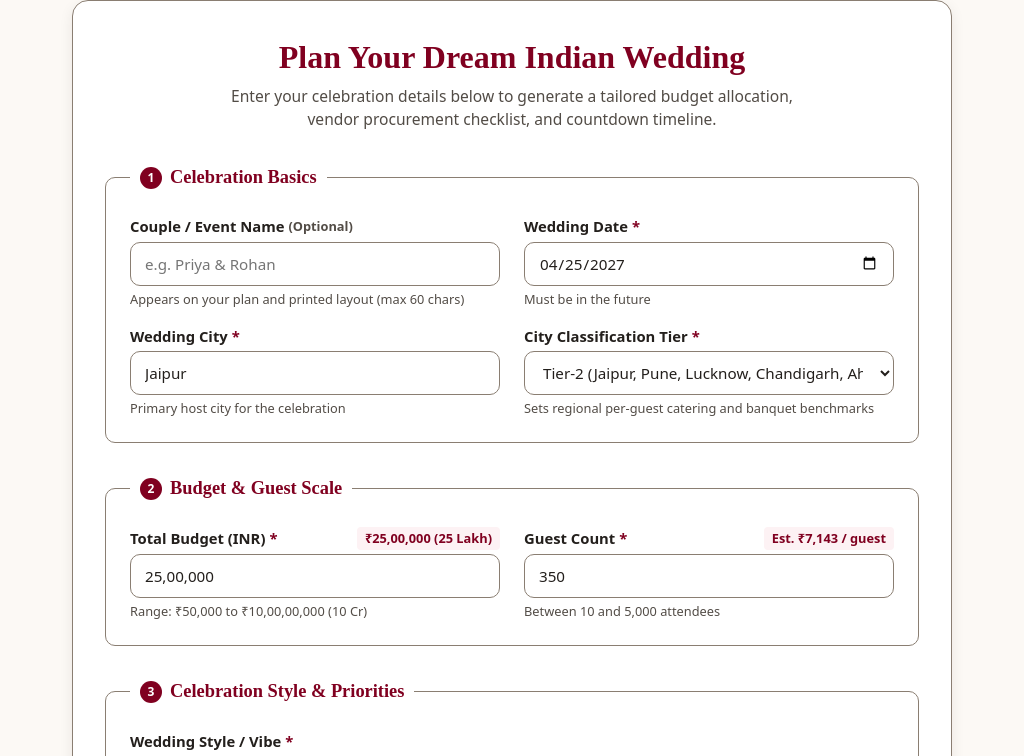
Scenario: IntakeForm Component › validates guest count range
// Enter guests below min (10)
Replace the text in the field labelled "Guest Count *" with "5" at point(709, 576), box [524,554,894,598]
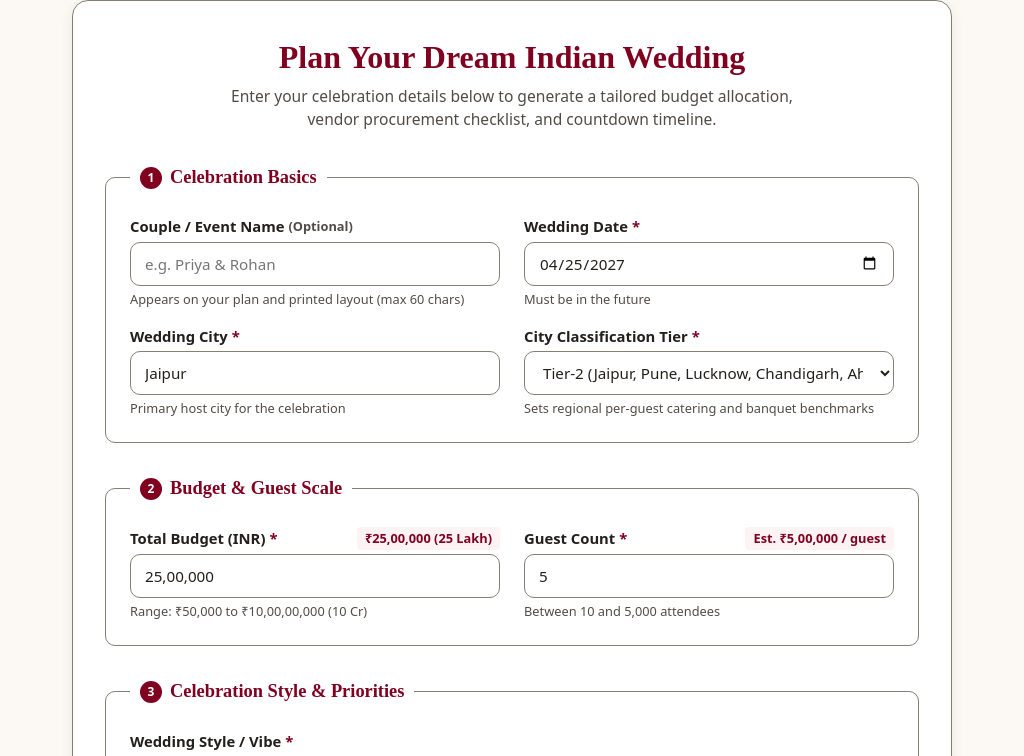
Leave the field labelled "Guest Count *", box [524,554,894,598]
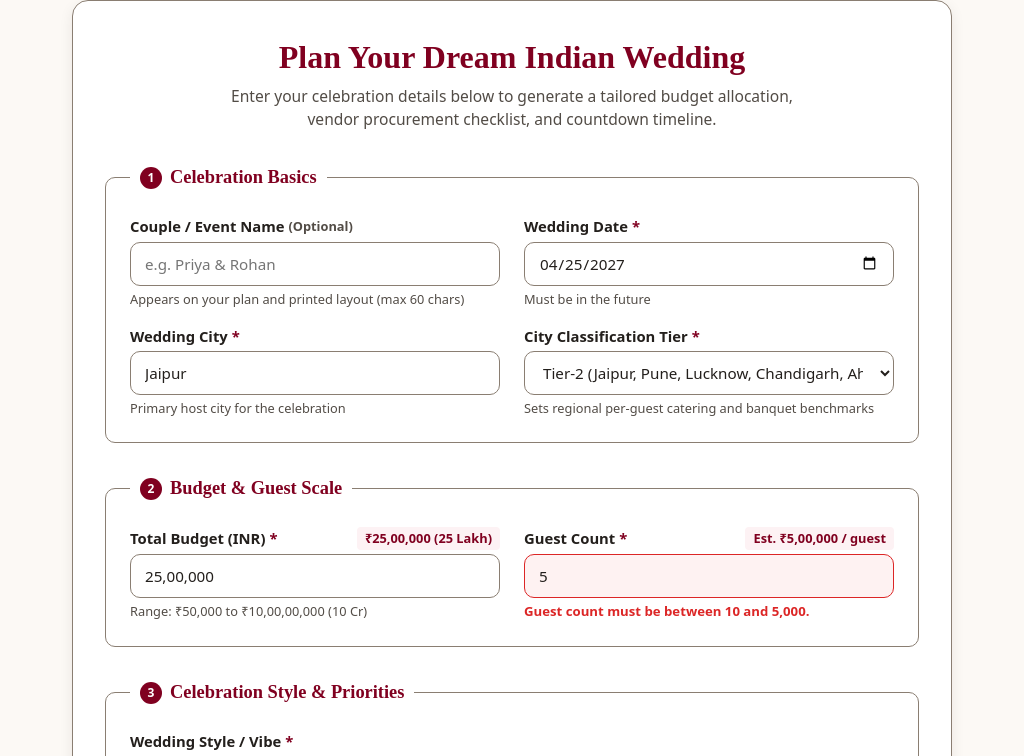
Now the text "Guest count must be between 10 and 5,000." is shown, box [524,602,810,620]
// Correct to valid guest count
Replace the text in the field labelled "Guest Count *" with "150" at point(709, 576), box [524,554,894,598]
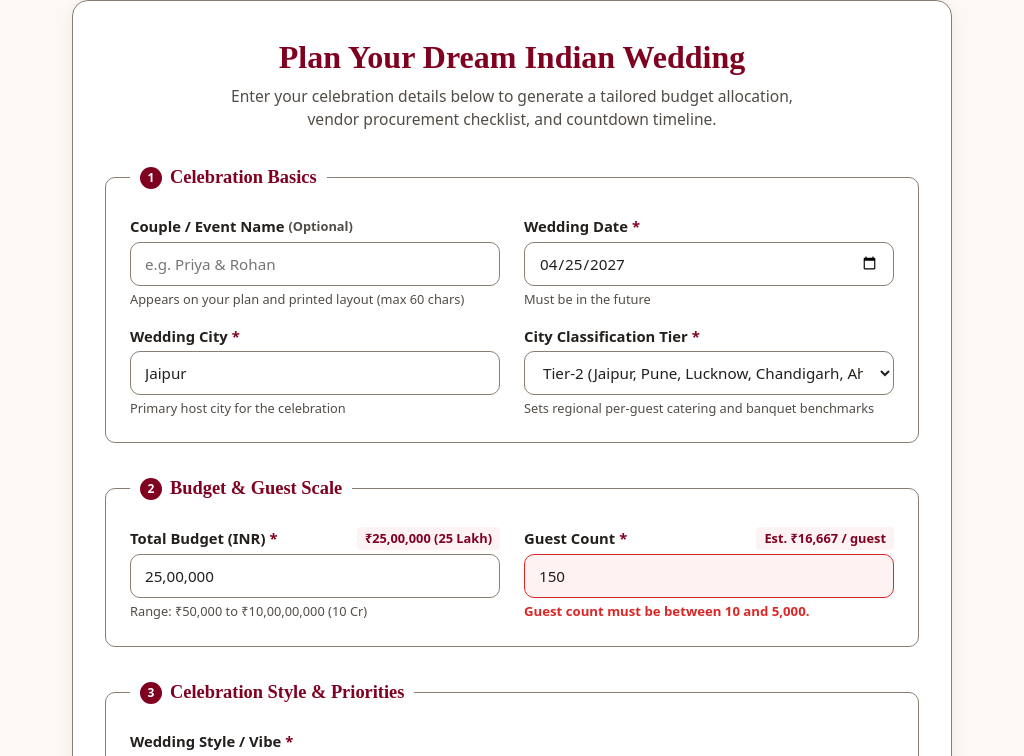
Leave the field labelled "Guest Count *", box [524,554,894,598]
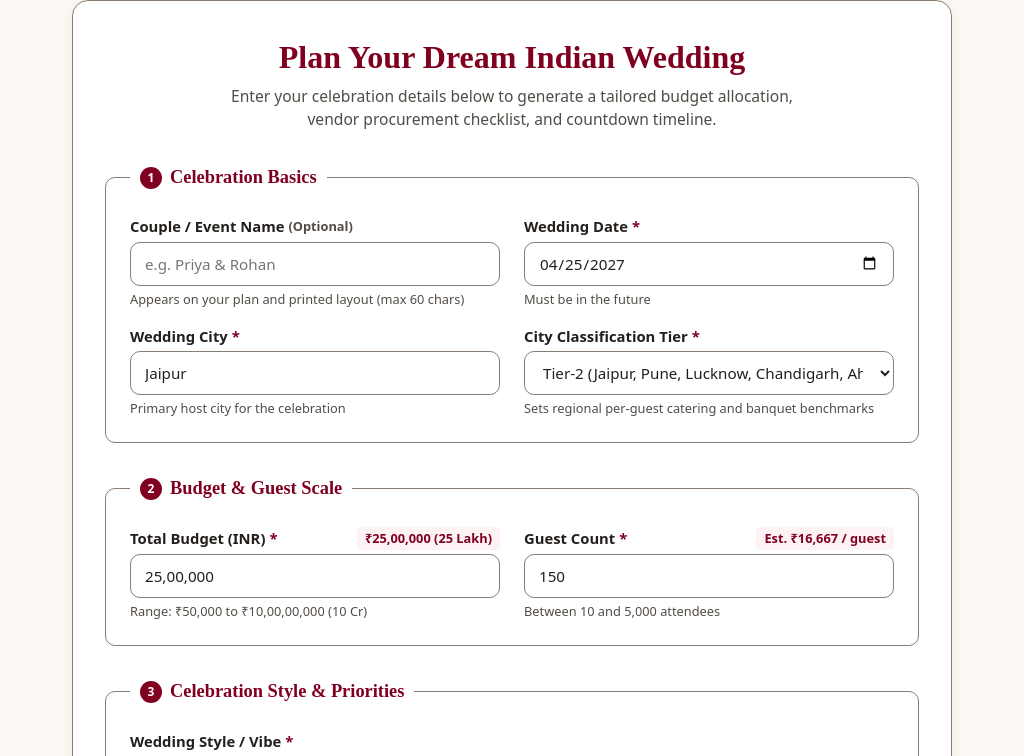
Now the text "Guest count must be between 10 and 5,000" is gone
